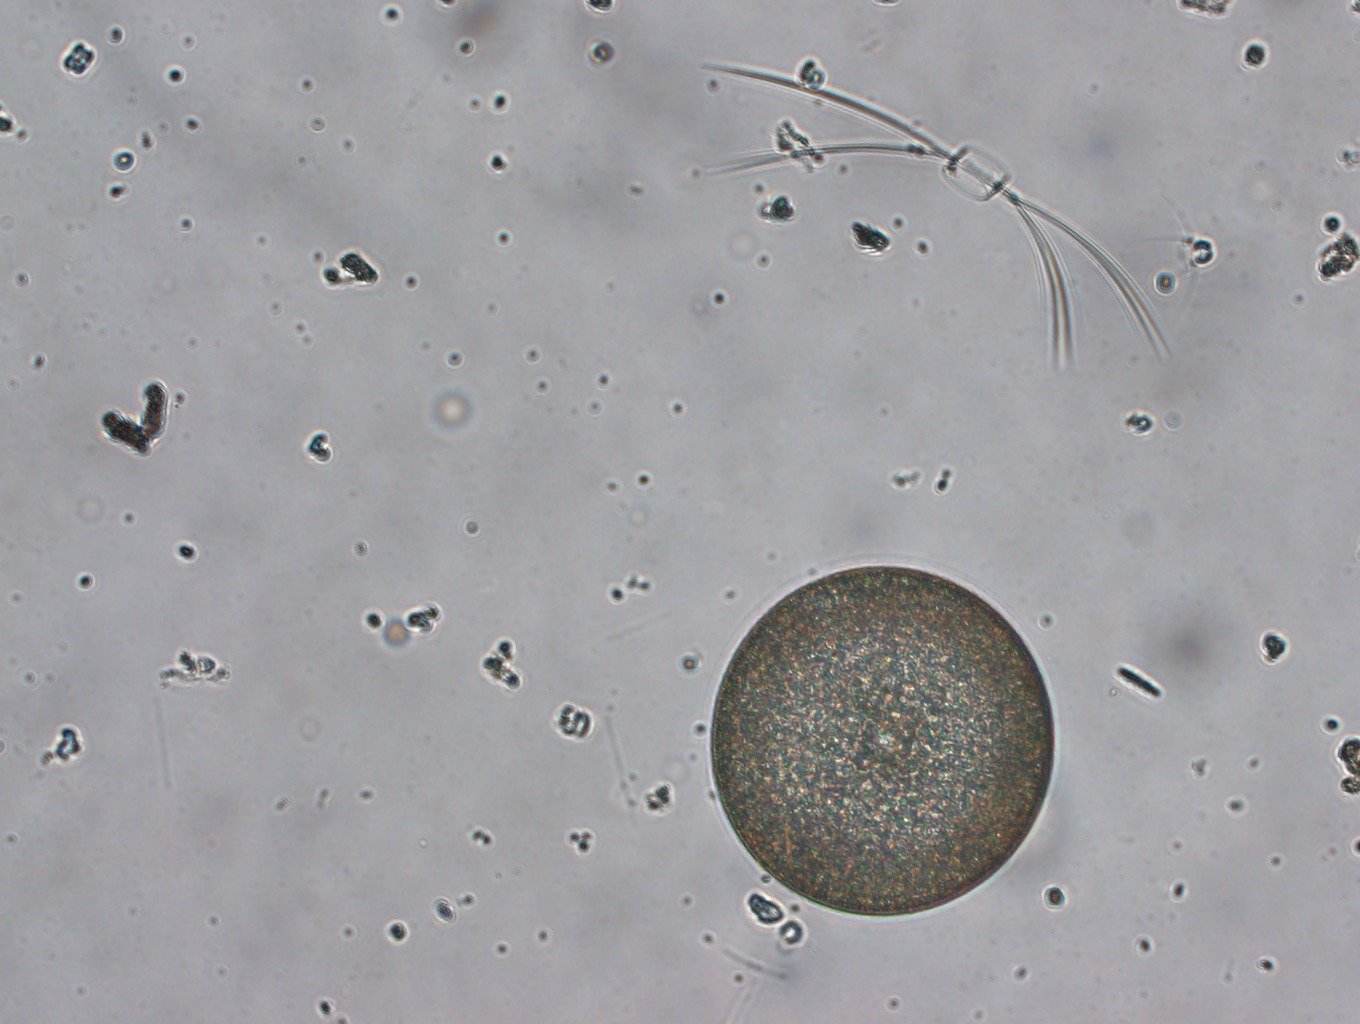chaetoceros: (696, 62, 1173, 375)
coscinodiscus: (707, 563, 1057, 918)
